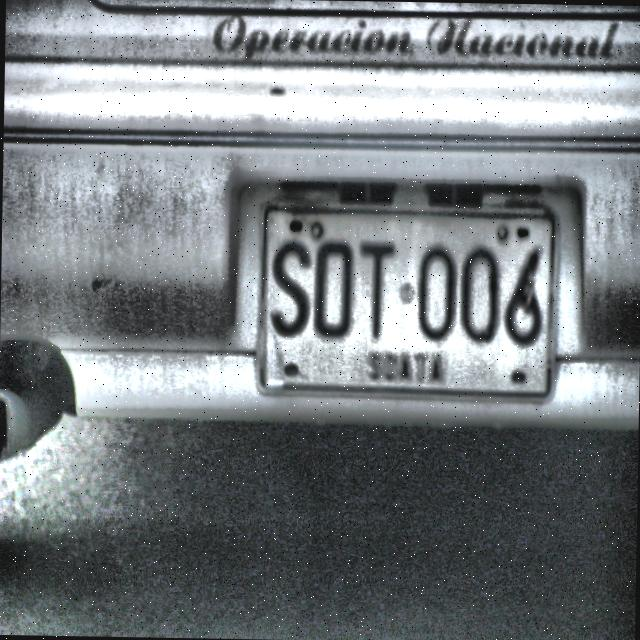0: (458, 244, 500, 345), (418, 245, 458, 342)
6: (501, 241, 547, 349)
O: (313, 239, 357, 339)
S: (267, 235, 314, 337)
T: (356, 242, 398, 337)
